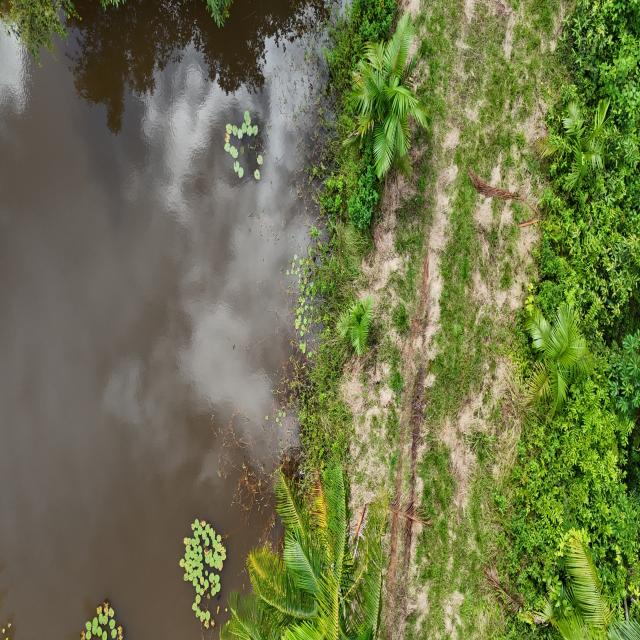vegetation: (341, 11, 429, 181)
